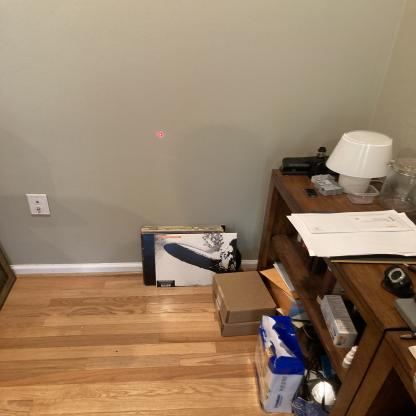target: (156, 130, 168, 138)
